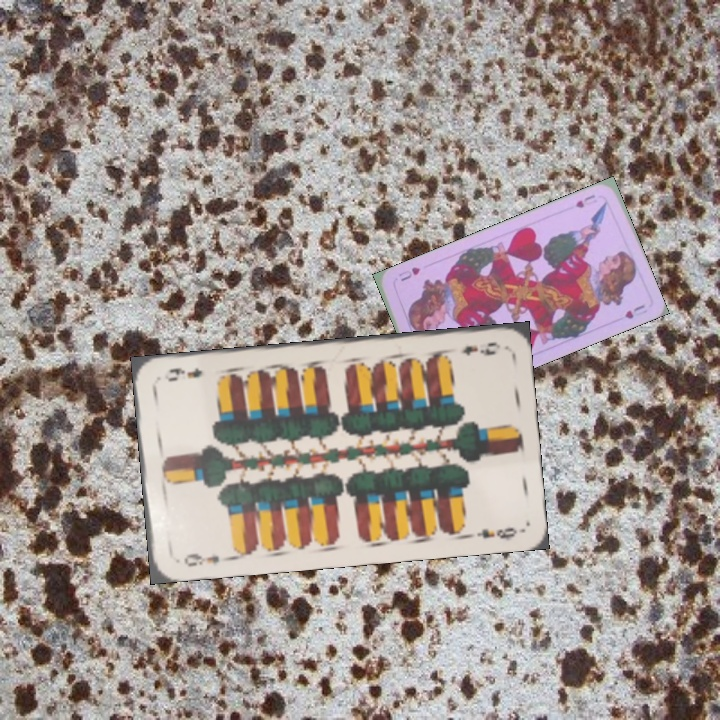E9: (179, 549, 233, 569), (459, 338, 503, 358)
HU: (571, 190, 598, 211)
